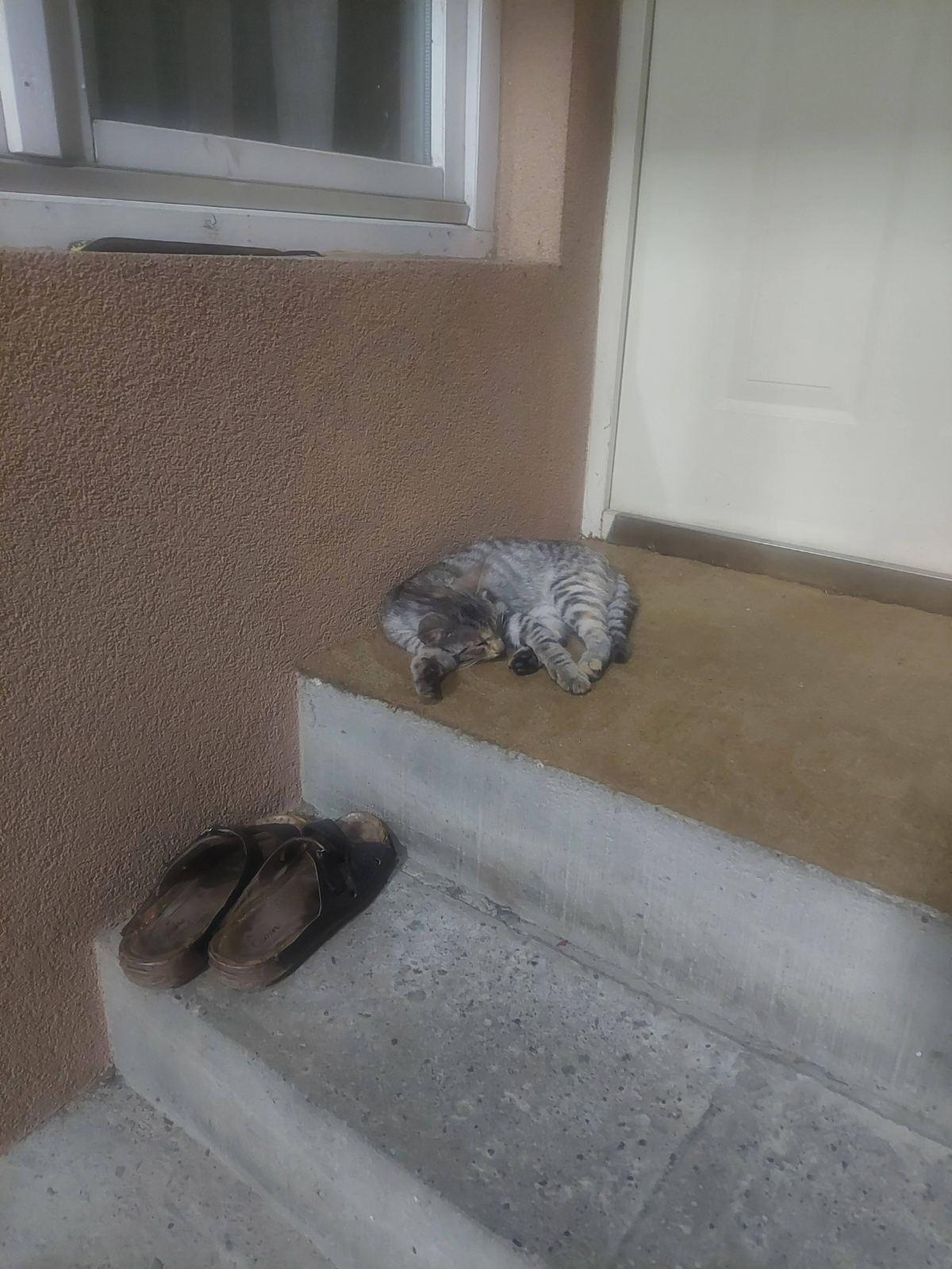macka: (379, 535, 637, 703)
